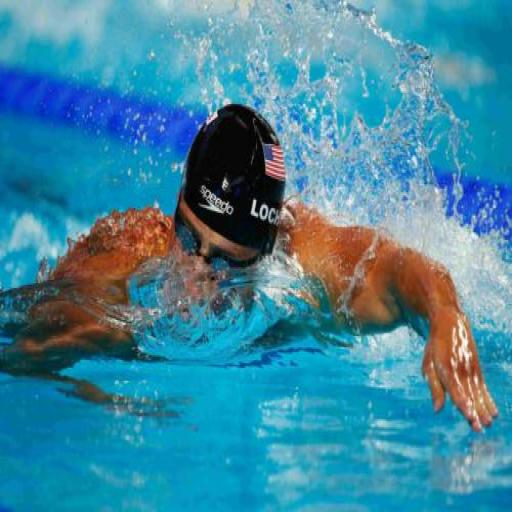swimming: (0, 101, 500, 435)
